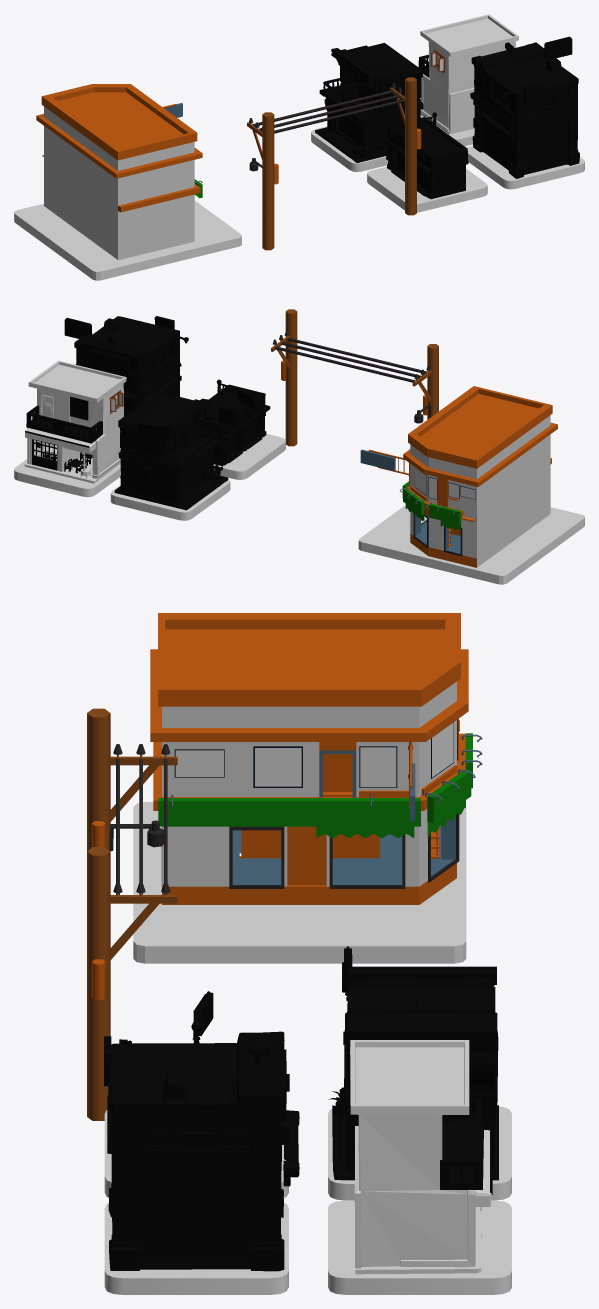
File: farmacia_higia_m.fbx
The picture shows the model from 3 angles, top to bottom: view 1: azimuth 30°, elevation 25°; view 2: azimuth 150°, elevation 25°; view 3: azimuth 270°, elevation 25°; orthographic projection. The views are drawn at different scales.
Parts seen in each view (by area): view 1: farmacia_higia_m; view 2: farmacia_higia_m; view 3: farmacia_higia_m.
Boxes of the visible parts, x1,y1,x2,y2 form: farmacia_higia_m: (14, 14, 584, 280); farmacia_higia_m: (14, 309, 584, 584); farmacia_higia_m: (87, 613, 511, 1294).
Size of the model in its own units: 3117 by 810 by 1154.
